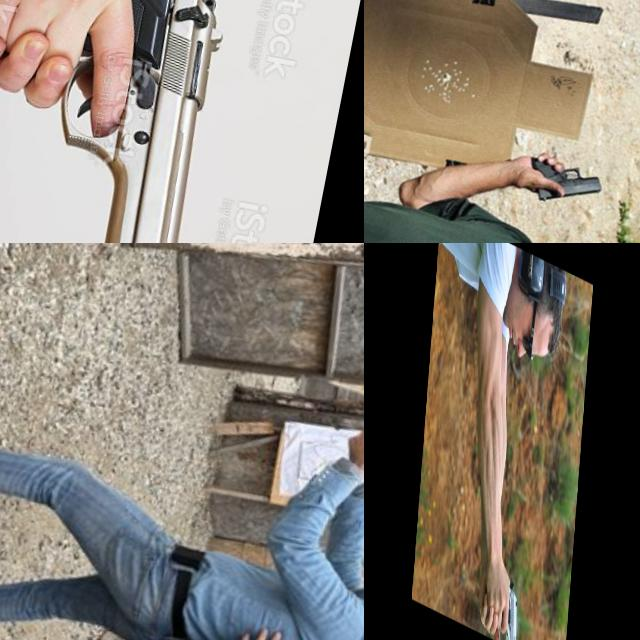handgun: (0, 0, 248, 243), (518, 150, 607, 214), (479, 560, 525, 640)
